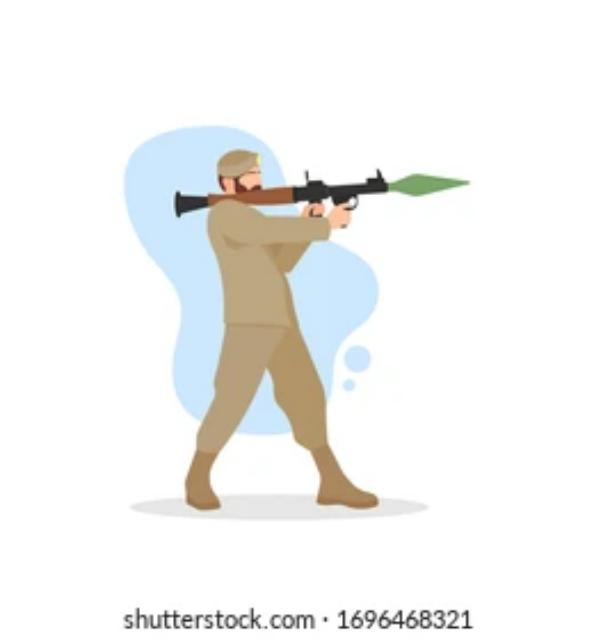other: (185, 142, 317, 514)
